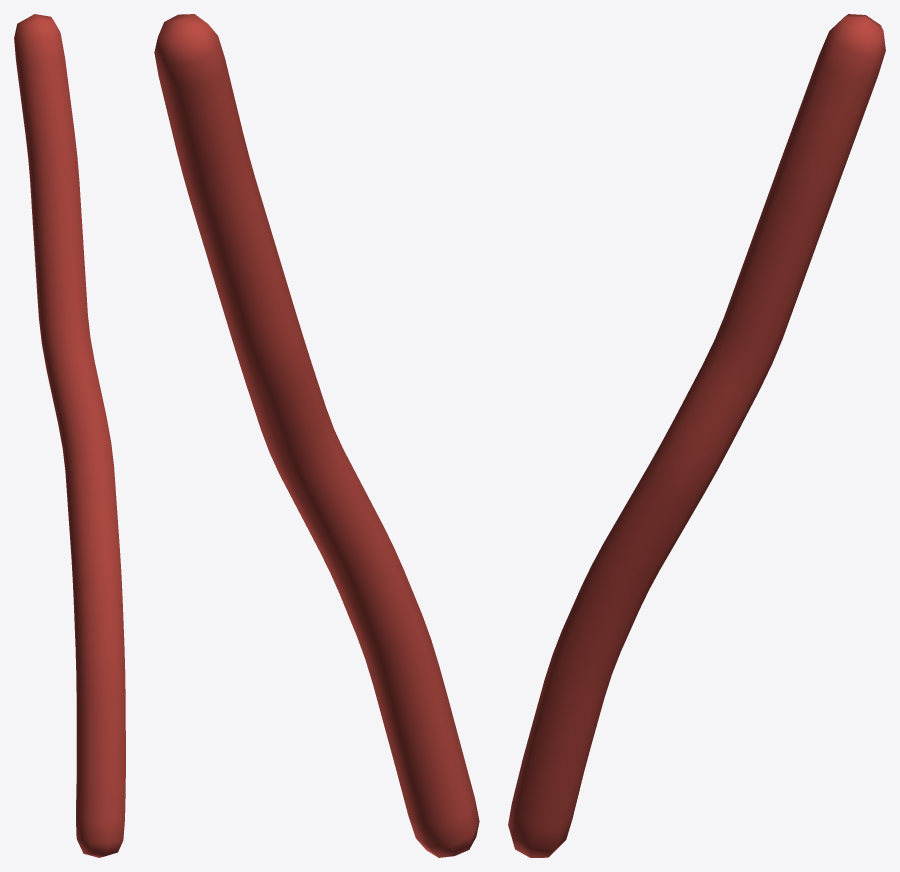
File: musculos-tendon-sheath-of-extensor-digiti-minimi-manus-l.glb
3 renders of one model, left to right at view 1: azimuth 30°, elevation 25°; view 2: azimuth 150°, elevation 25°; view 3: azimuth 270°, elevation 25°, orthographic. The views are drawn at different scales.
Visible parts, largest first — view 1: Tendon sheath of extensor digiti minimi manus.l; view 2: Tendon sheath of extensor digiti minimi manus.l; view 3: Tendon sheath of extensor digiti minimi manus.l.
Part boxes in pixels (x1,y1,x2,y2): Tendon sheath of extensor digiti minimi manus.l: [14, 14, 125, 857]; Tendon sheath of extensor digiti minimi manus.l: [154, 14, 479, 857]; Tendon sheath of extensor digiti minimi manus.l: [508, 14, 885, 857].
Size of the model in its own units: 0.0121 by 0.0741 by 0.0289.
